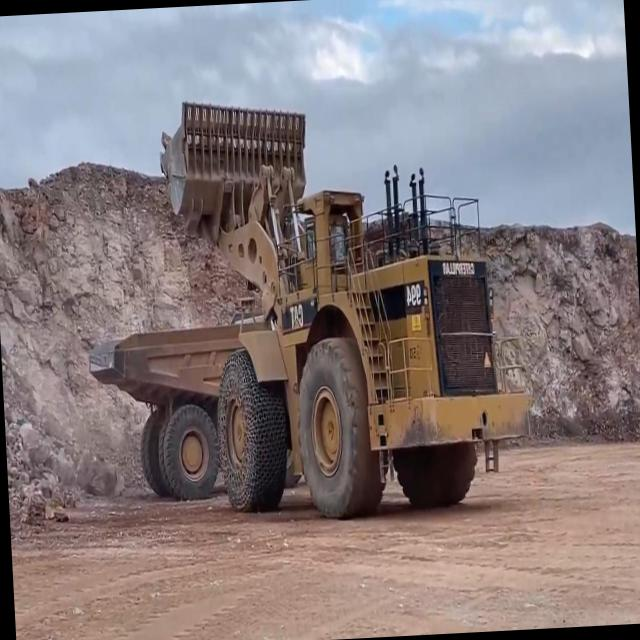Camion volquete: (85, 317, 284, 499)
pala cargadora: (150, 71, 544, 526)
